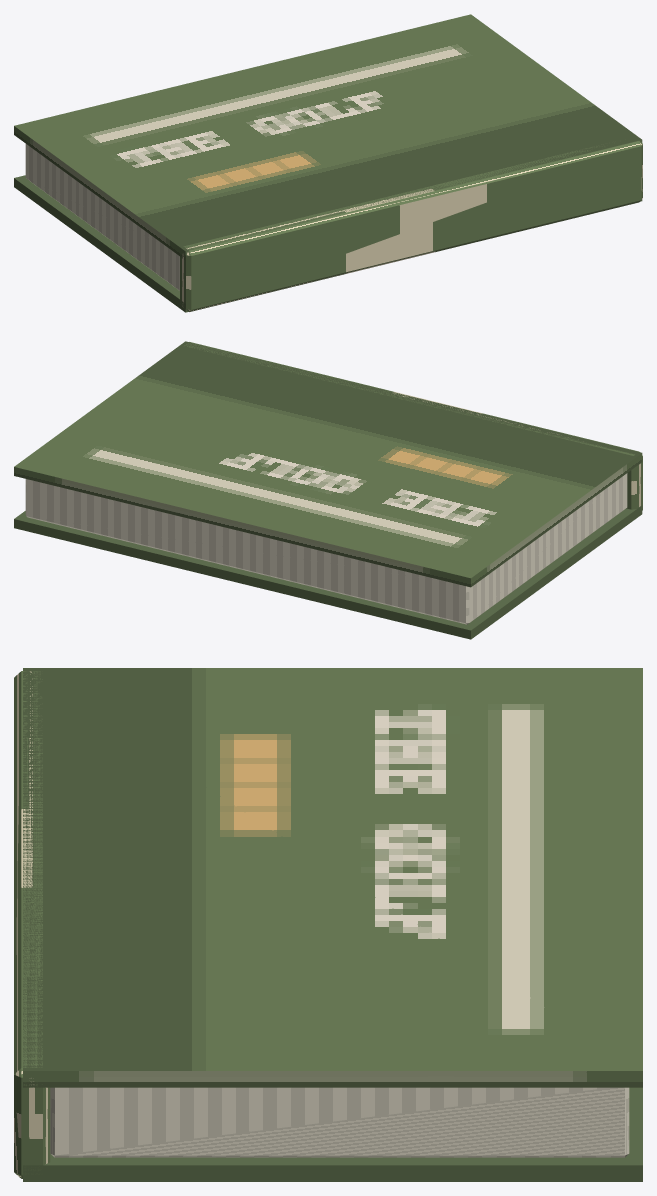
File: book_fict_hard_sports_omni.glb
3 renders of one model, top to bottom at view 1: azimuth 30°, elevation 25°; view 2: azimuth 150°, elevation 25°; view 3: azimuth 270°, elevation 25°, orthographic. The views are drawn at different scales.
Visible parts, largest first — view 1: block_front, block_spine, block_pages, block_back; view 2: block_front, block_pages, block_back, block_spine; view 3: block_front, block_pages, block_back, block_spine.
Boxes of the visible parts, bbox=[...] form: block_front: bbox=[14, 14, 642, 259]; block_spine: bbox=[180, 141, 642, 311]; block_pages: bbox=[25, 144, 179, 290]; block_back: bbox=[14, 175, 642, 312]; block_front: bbox=[14, 341, 642, 587]; block_pages: bbox=[25, 473, 627, 624]; block_back: bbox=[14, 505, 642, 639]; block_spine: bbox=[184, 342, 642, 510]; block_front: bbox=[23, 668, 642, 1087]; block_pages: bbox=[50, 1087, 629, 1157]; block_back: bbox=[23, 1087, 642, 1181]; block_spine: bbox=[14, 671, 50, 1178].
Size of the model in its own units: 0.21 by 0.0269 by 0.1385.
1 material, 1 textured.
